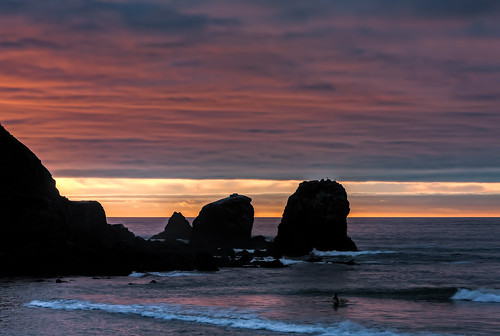sea: (1, 268, 351, 336), (353, 215, 500, 336)
sky: (1, 3, 500, 193)
